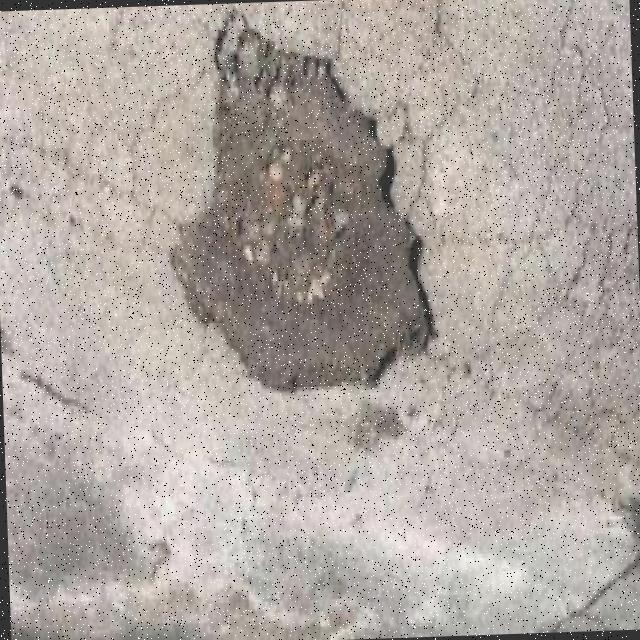Pothole: (170, 12, 446, 392)
